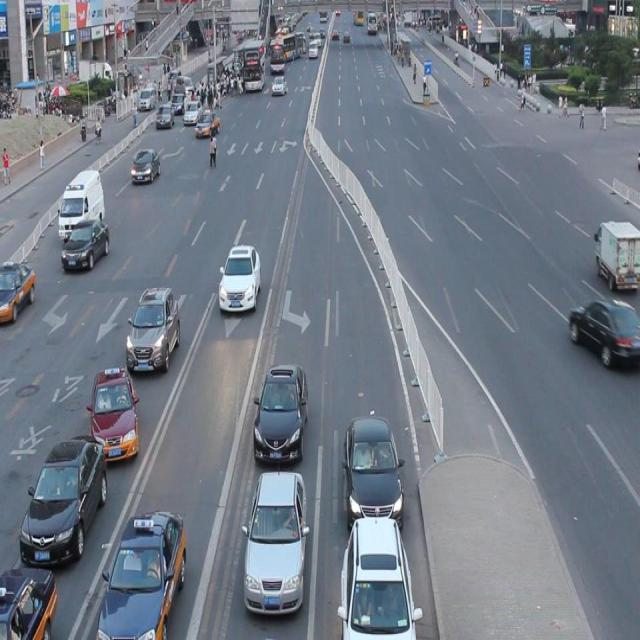bus: (594, 218, 640, 288)
car: (93, 508, 187, 640), (19, 432, 106, 568), (339, 515, 417, 640), (242, 470, 307, 618), (342, 415, 403, 532), (251, 363, 308, 465), (567, 297, 640, 368), (124, 286, 180, 376), (88, 367, 138, 464), (1, 565, 56, 640), (217, 242, 261, 314), (61, 218, 111, 270), (1, 260, 36, 324), (131, 148, 160, 184)
truck: (59, 170, 105, 241)
